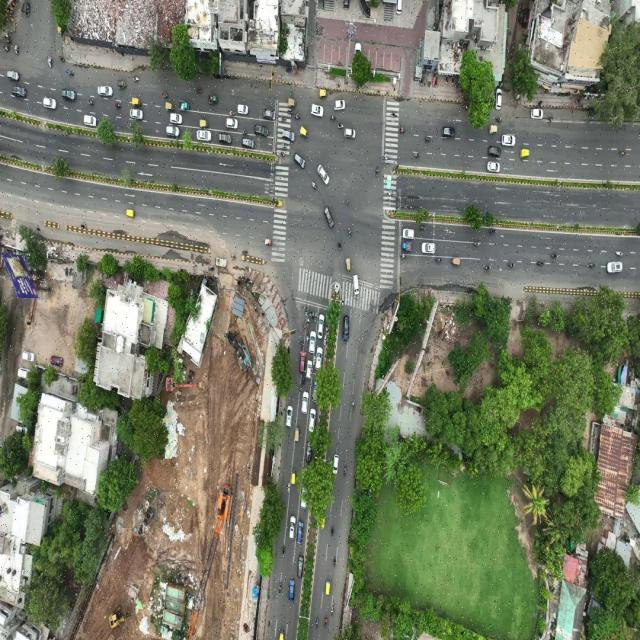3W: (122, 202, 139, 222), (19, 0, 35, 21), (518, 143, 532, 165), (297, 123, 313, 142), (448, 251, 463, 269), (163, 98, 177, 117), (486, 120, 500, 139), (289, 466, 299, 492), (116, 75, 129, 94), (322, 577, 332, 599), (130, 94, 144, 109), (286, 95, 300, 110), (276, 623, 288, 640), (318, 85, 330, 102), (343, 255, 353, 275), (199, 116, 210, 132), (294, 421, 301, 446)
Cars: (490, 81, 510, 113), (321, 199, 337, 237), (58, 83, 80, 107), (40, 90, 60, 115), (603, 258, 625, 280), (13, 362, 36, 383), (316, 158, 331, 189), (251, 119, 271, 142), (279, 125, 299, 146), (351, 39, 364, 71), (291, 150, 308, 174), (239, 131, 258, 152), (11, 80, 29, 102), (164, 120, 182, 142), (440, 121, 458, 143), (528, 101, 546, 123), (418, 238, 440, 256), (299, 386, 311, 418), (20, 346, 39, 366), (165, 109, 185, 128), (342, 124, 361, 144), (94, 82, 115, 100), (287, 512, 298, 545), (4, 67, 24, 85), (260, 103, 278, 123), (520, 2, 532, 32), (223, 114, 240, 135), (307, 404, 318, 436), (341, 311, 351, 346), (194, 126, 212, 145), (314, 342, 324, 376), (13, 420, 30, 440), (283, 402, 295, 430), (295, 551, 306, 581), (499, 132, 517, 150), (128, 105, 145, 124), (316, 308, 326, 340), (309, 101, 325, 121), (304, 352, 314, 383), (234, 101, 252, 118), (216, 131, 234, 148), (485, 159, 502, 177), (486, 143, 504, 160), (49, 351, 65, 370), (222, 116, 241, 132), (332, 96, 348, 115), (295, 517, 305, 546), (392, 0, 407, 19), (287, 576, 297, 604), (304, 438, 314, 466), (298, 348, 308, 376), (350, 273, 361, 298), (400, 225, 417, 241), (305, 355, 314, 385), (300, 483, 309, 511), (331, 453, 340, 477), (341, 0, 353, 14)
LCV: (80, 111, 100, 134), (397, 239, 417, 255), (261, 228, 275, 248), (176, 98, 192, 114), (207, 92, 220, 108)
M2W: (548, 244, 560, 264), (56, 49, 68, 68), (64, 64, 76, 82), (394, 123, 408, 138), (85, 93, 97, 110), (12, 39, 22, 59), (129, 70, 141, 86), (0, 40, 12, 56), (585, 257, 597, 273), (534, 257, 546, 273), (417, 220, 429, 236), (275, 577, 284, 598), (79, 216, 90, 233), (336, 234, 345, 254), (46, 52, 55, 72), (113, 96, 123, 114), (334, 118, 346, 133), (545, 110, 555, 128), (346, 220, 354, 242), (312, 613, 321, 632), (225, 107, 238, 120), (388, 108, 401, 121), (615, 148, 628, 161), (2, 34, 14, 48), (159, 89, 170, 104), (487, 223, 498, 238), (284, 105, 296, 118), (432, 254, 444, 267), (308, 179, 319, 193), (493, 112, 504, 126), (614, 248, 625, 262), (449, 73, 459, 88), (483, 260, 493, 275), (304, 311, 312, 329), (349, 396, 357, 414), (300, 370, 308, 388), (341, 462, 349, 480), (2, 27, 14, 39), (326, 112, 338, 124), (194, 85, 205, 98), (506, 258, 517, 271), (471, 239, 484, 250), (280, 540, 287, 560), (328, 523, 336, 540), (374, 162, 381, 181), (434, 70, 441, 89), (279, 140, 290, 152), (240, 125, 250, 138), (278, 113, 288, 126), (321, 614, 329, 630), (397, 251, 408, 262), (286, 478, 292, 498), (278, 149, 288, 161), (412, 150, 422, 162), (424, 134, 434, 146), (310, 305, 316, 324), (322, 333, 328, 352), (340, 294, 347, 310), (304, 329, 311, 345), (443, 74, 451, 88), (313, 302, 318, 324), (241, 246, 250, 258), (299, 336, 305, 354), (228, 253, 238, 263), (293, 112, 303, 122), (303, 302, 309, 318), (302, 318, 308, 334), (312, 352, 318, 368), (329, 602, 335, 618), (298, 381, 304, 396), (332, 554, 338, 569), (308, 303, 313, 320), (324, 319, 330, 333)
Truck: (211, 252, 230, 274)
